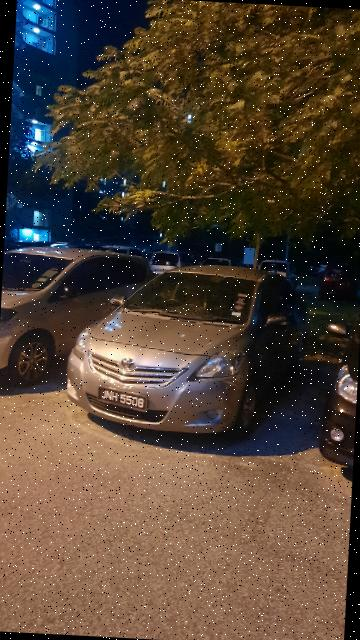License_Plate: (93, 385, 154, 418)
car: (61, 251, 325, 455), (1, 241, 162, 396)
